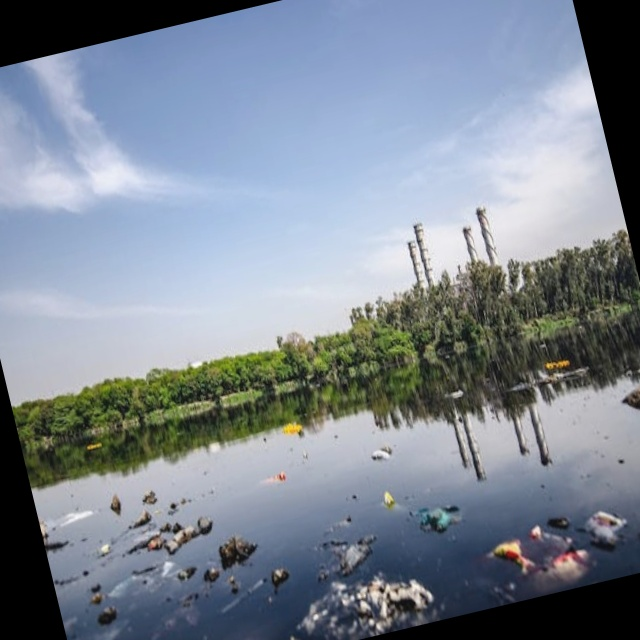algae_bloom: (12, 325, 438, 483)
contaminated_water: (13, 13, 627, 627)
foam_scum: (0, 62, 627, 405), (34, 374, 640, 541), (0, 116, 170, 212)
oil_spill: (576, 0, 640, 301), (372, 575, 640, 640), (0, 370, 64, 640), (0, 0, 256, 65)
turbid_water: (11, 230, 640, 491)
